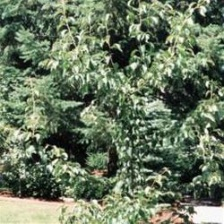neutral: (11, 6, 220, 196)
